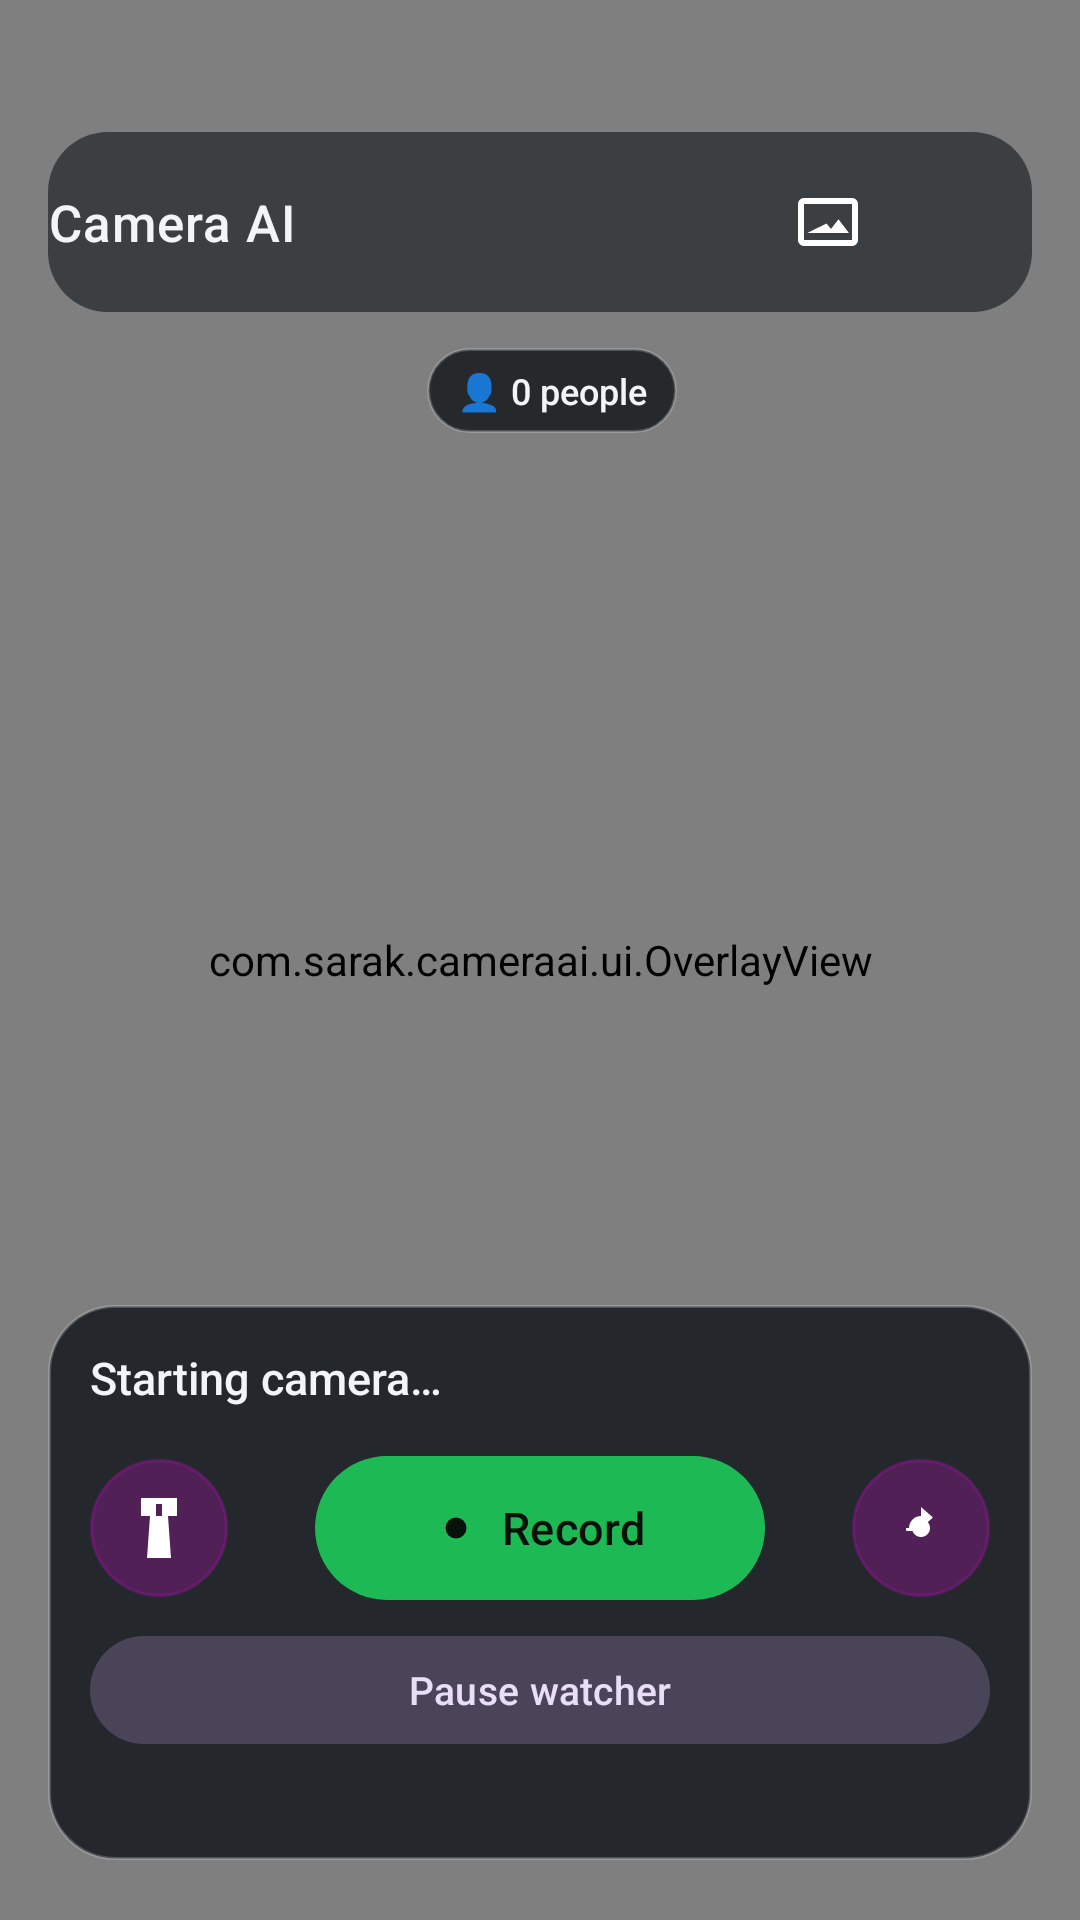

Locate icon controls on the screen. Image size 1080x1920, boxes as [x1,y1,x2,y2].
Clips: [798,198,858,246]
Flip: [852,1459,990,1597]
Torch: [90,1459,228,1597]
